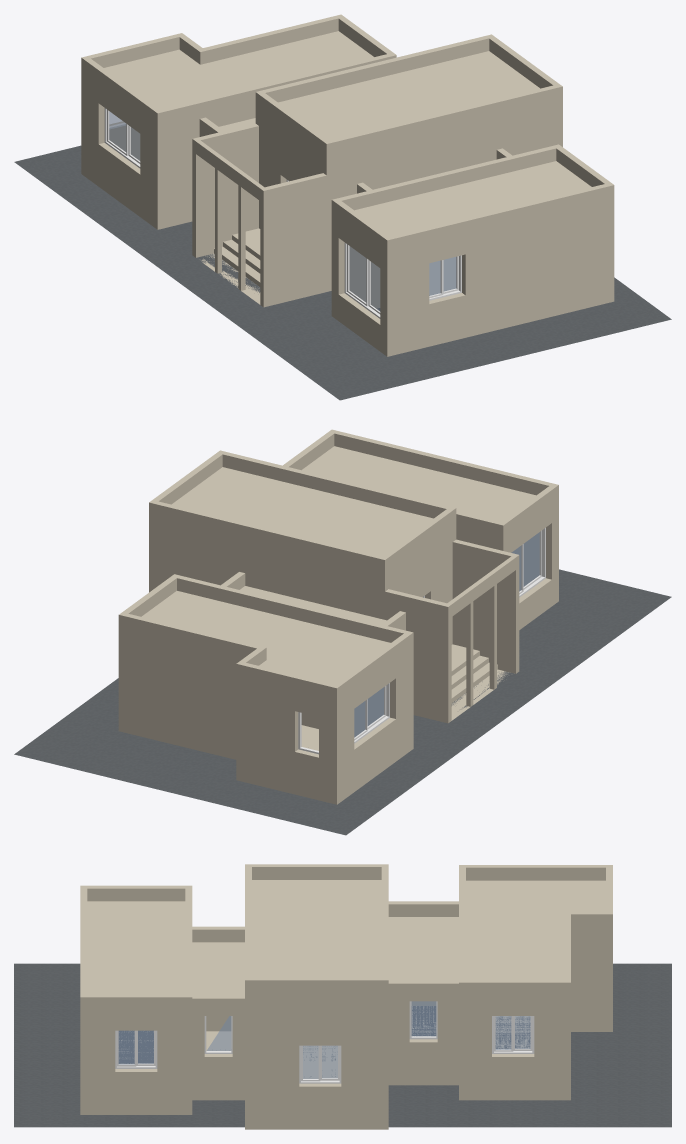
3 renders of one model, top to bottom at view 1: azimuth 30°, elevation 25°; view 2: azimuth 150°, elevation 25°; view 3: azimuth 270°, elevation 25°, orthographic.
Parts seen in each view (by area): view 1: 8150, Root Node, Component#2; view 2: 8150, Root Node, Component#2; view 3: 8150, Root Node, Component#2.
Boxes of the visible parts, x1,y1,x2,y2 form: 8150: (81, 14, 614, 356); Root Node: (14, 145, 671, 400); Component#2: (104, 108, 461, 318); 8150: (118, 429, 558, 804); Root Node: (14, 569, 671, 835); Component#2: (298, 527, 545, 754); 8150: (80, 864, 612, 1129); Root Node: (14, 963, 671, 1127); Component#2: (115, 1001, 534, 1083).
Size of the model in its own units: 11.22 by 4.7 by 18.77.
4 materials, 1 textured.
